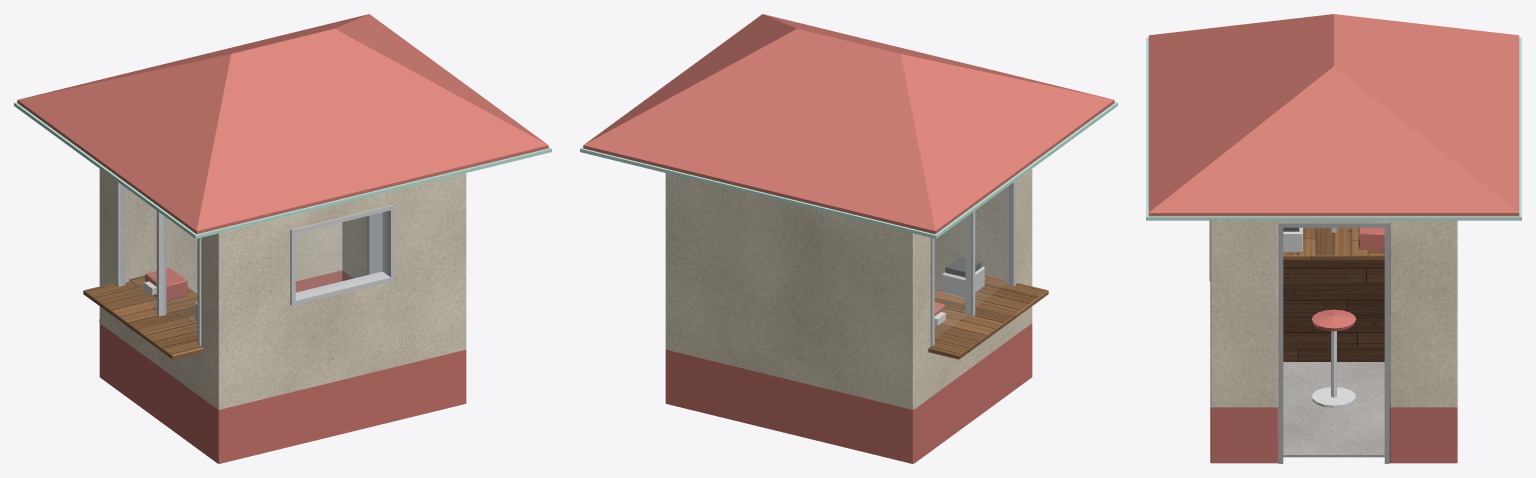
File: ticket_booth.glb
3 renders of one model, left to right at view 1: azimuth 30°, elevation 25°; view 2: azimuth 150°, elevation 25°; view 3: azimuth 270°, elevation 25°, orthographic. The views are drawn at different scales.
Visible parts, largest first — view 1: ticket_booth_roof_r, ticket_booth_render, ticket_booth_tile_r, ticket_booth_glass, ticket_booth_metal, ticket_booth_wood, ticket_booth_neon, ticket_booth_steel; view 2: ticket_booth_roof_r, ticket_booth_render, ticket_booth_tile_r, ticket_booth_glass, ticket_booth_wood, ticket_booth_metal, ticket_booth_neon; view 3: ticket_booth_roof_r, ticket_booth_render, ticket_booth_dkwood, ticket_booth_concrete, ticket_booth_tile_r, ticket_booth_steel, ticket_booth_neon, ticket_booth_wood, ticket_booth_chrome, ticket_booth_vinyl_r, ticket_booth_metal.
Boxes of the visible parts, x1,y1,x2,y2 form: ticket_booth_roof_r: (17, 14, 548, 234); ticket_booth_render: (99, 169, 466, 409); ticket_booth_tile_r: (99, 268, 466, 463); ticket_booth_glass: (121, 185, 386, 335); ticket_booth_metal: (116, 181, 394, 346); ticket_booth_wood: (83, 275, 203, 359); ticket_booth_neon: (14, 102, 551, 238); ticket_booth_steel: (367, 212, 382, 274); ticket_booth_roof_r: (583, 14, 1114, 234); ticket_booth_render: (665, 169, 1032, 409); ticket_booth_tile_r: (665, 302, 1032, 463); ticket_booth_glass: (935, 187, 1008, 337); ticket_booth_wood: (928, 275, 1048, 359); ticket_booth_metal: (930, 181, 1015, 346); ticket_booth_neon: (580, 102, 1117, 238); ticket_booth_roof_r: (1148, 14, 1519, 216); ticket_booth_render: (1210, 220, 1457, 407); ticket_booth_dkwood: (1283, 259, 1384, 361); ticket_booth_concrete: (1283, 362, 1384, 457); ticket_booth_tile_r: (1210, 227, 1457, 463); ticket_booth_steel: (1278, 222, 1389, 463); ticket_booth_neon: (1146, 37, 1521, 220); ticket_booth_wood: (1283, 227, 1384, 259); ticket_booth_chrome: (1312, 331, 1355, 407); ticket_booth_vinyl_r: (1312, 309, 1355, 331); ticket_booth_metal: (1209, 220, 1336, 281).
Bounding box in the file's own units: 3.44 × 3.22 × 3.04.
15 materials, 4 textured.
